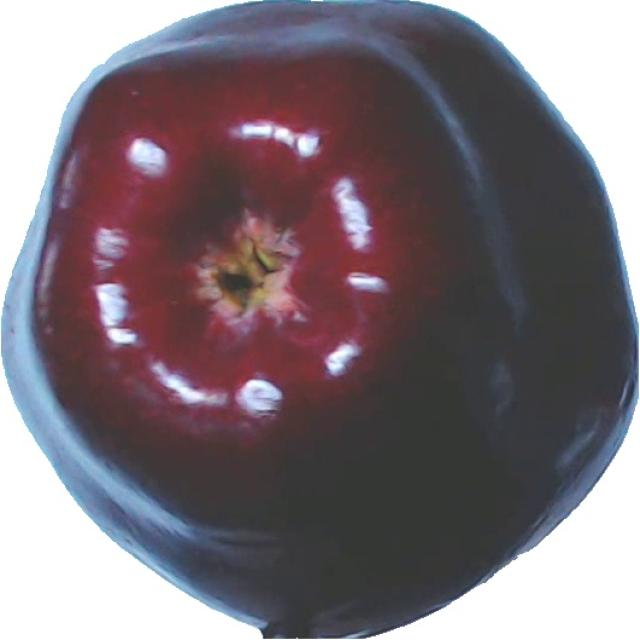Scartlet Spur Elma: (1, 0, 639, 639)
